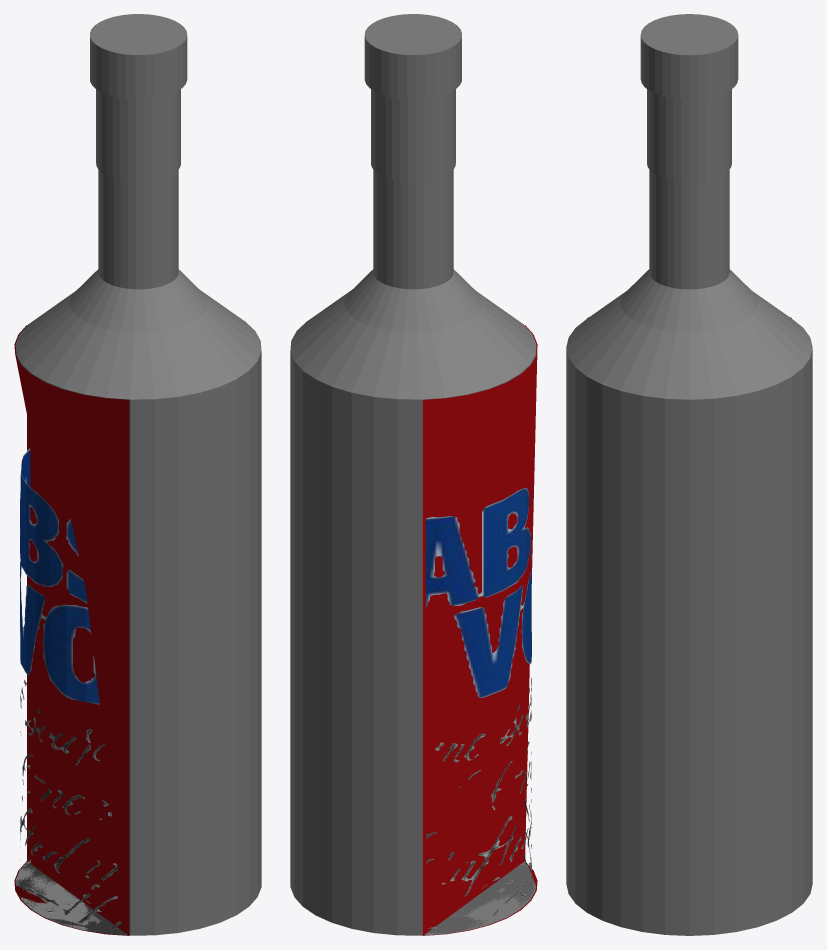
Rendered from Vodka 1.fbx.
The picture shows the model from 3 angles, left to right: view 1: azimuth 30°, elevation 25°; view 2: azimuth 150°, elevation 25°; view 3: azimuth 270°, elevation 25°; orthographic projection.
Visible parts, largest first — view 1: Cylinder, Cylinder.001; view 2: Cylinder, Cylinder.001; view 3: Cylinder, Cylinder.001.
Part boxes in pixels (x1,y1,x2,y2): Cylinder: [14, 170, 261, 935]; Cylinder.001: [90, 14, 187, 181]; Cylinder: [290, 170, 537, 935]; Cylinder.001: [364, 14, 461, 181]; Cylinder: [566, 170, 812, 935]; Cylinder.001: [640, 14, 738, 181].
Bounding box in the file's own units: 159 × 602 × 158.
3 materials, 1 textured.
